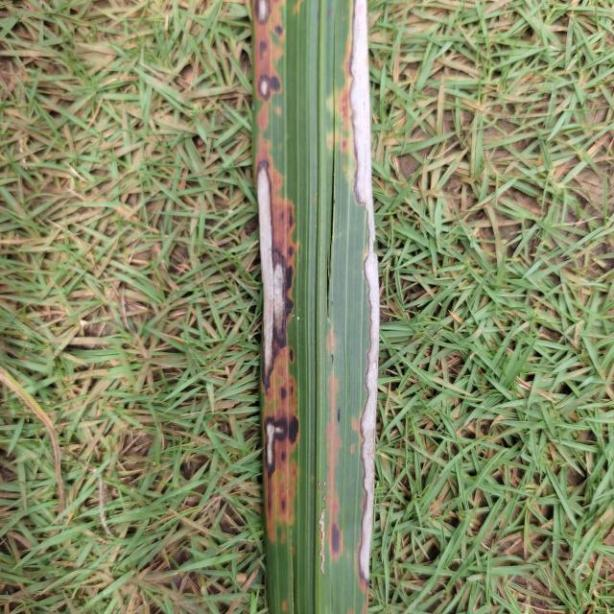Kalium: (251, 0, 385, 614)
